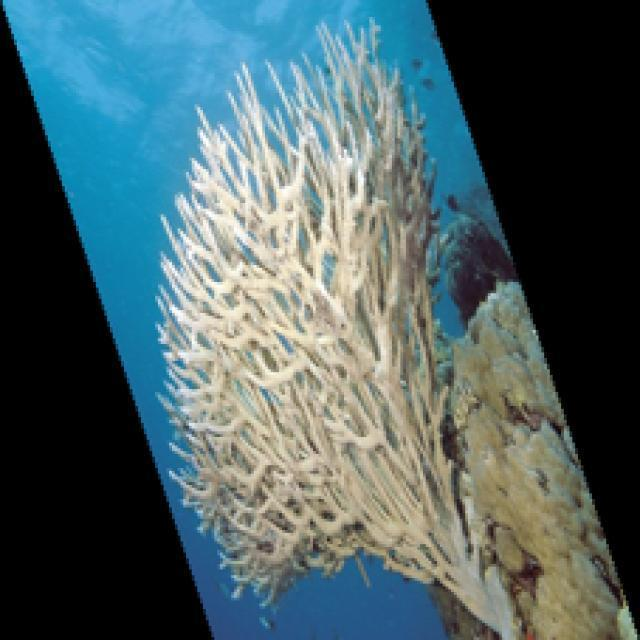Bleached: (153, 18, 530, 640), (455, 280, 638, 640)
